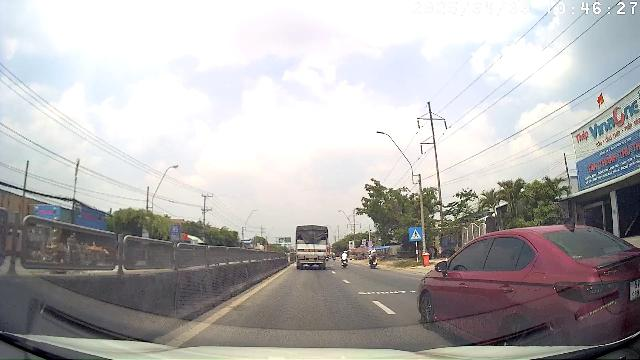423a-duong-nguoi-di-bo-sang-ngang-1: (409, 227, 422, 241)
